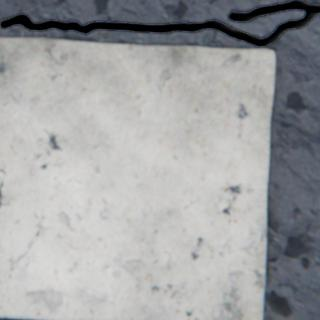brick: (0, 37, 273, 319)
crack: (0, 0, 319, 47)
